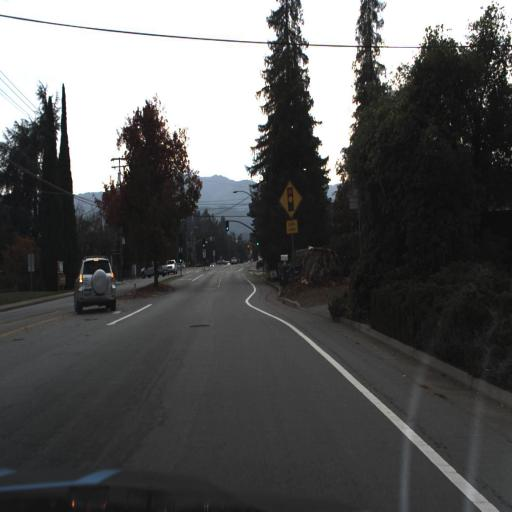car: (72, 257, 116, 311), (140, 258, 167, 279)
